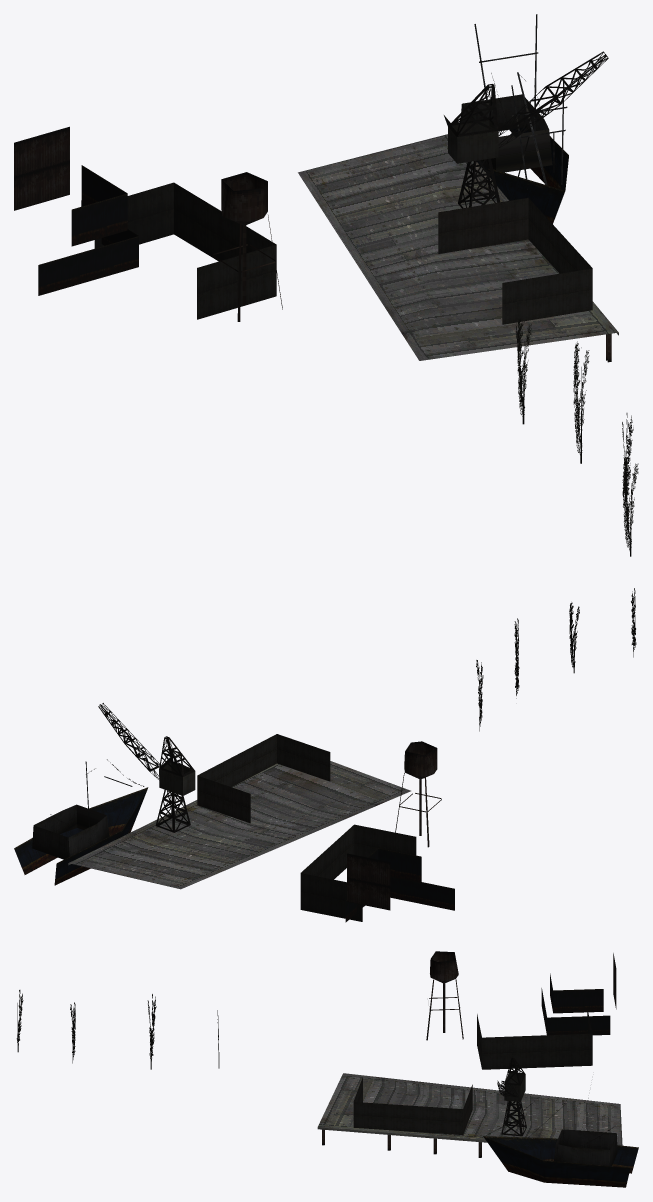
File: cell_14_-11.gltf
3 views of the same model, one above another, from view 1: azimuth 30°, elevation 25°; view 2: azimuth 150°, elevation 25°; view 3: azimuth 270°, elevation 25° (orthographic). The views are drawn at different scales.
Parts seen in each view (by area): view 1: cell_14_-11; view 2: cell_14_-11; view 3: cell_14_-11.
Boxes of the visible parts, left/top/right/bottom form: cell_14_-11: left=14, top=14, right=638, bottom=556; cell_14_-11: left=14, top=588, right=636, bottom=922; cell_14_-11: left=16, top=951, right=638, bottom=1187.
Size of the model in its own units: 124 by 37.38 by 197.
Materials: 10 (10 with a texture image).
